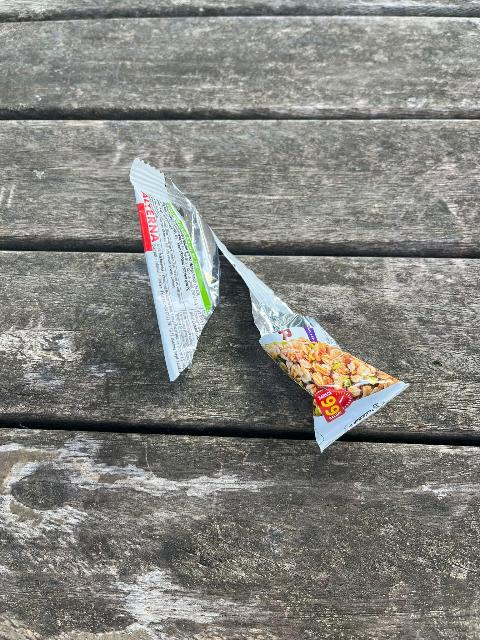Plastik: (127, 161, 405, 448)
